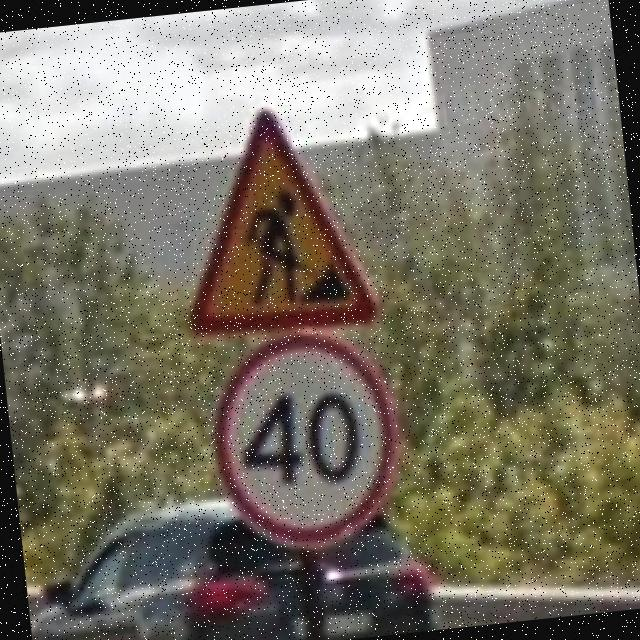Ograniczenie predkosci do 40: (201, 321, 406, 558)
